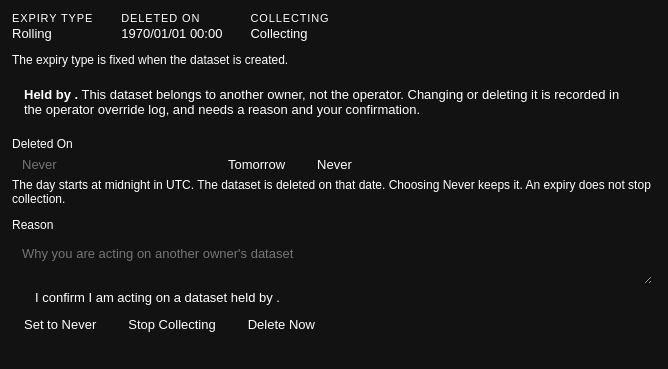
Scenario: RetentionCard and Never › the invalid-day hint names Never
The width and height of the screenshot is (668, 369).
In the field with test id "expiry-input": point(110, 164) [12, 157, 208, 172], type "2026/02/30"
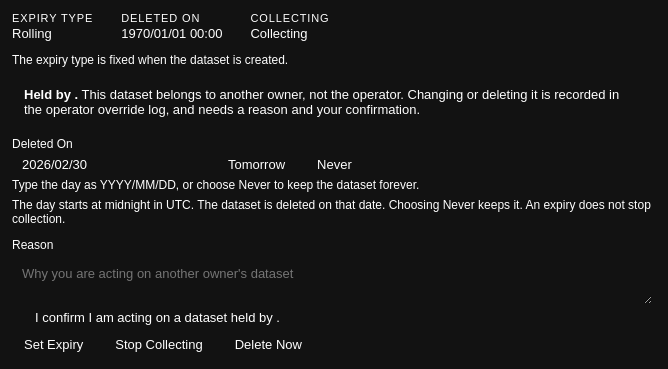
Expected: the text with test id "expiry-problem" reads "Type the day as YYYY/MM/DD, or choose Never to keep the dataset forever.", [12, 178, 419, 192]
